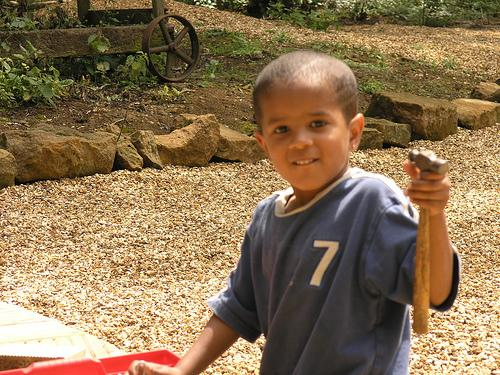hammer: (406, 145, 449, 337)
